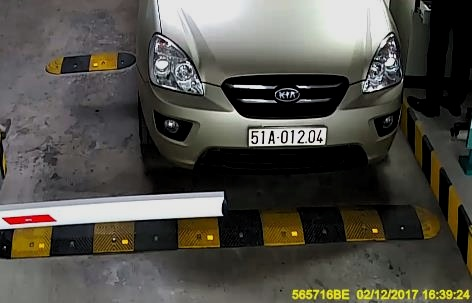plate: (245, 123, 326, 150)
